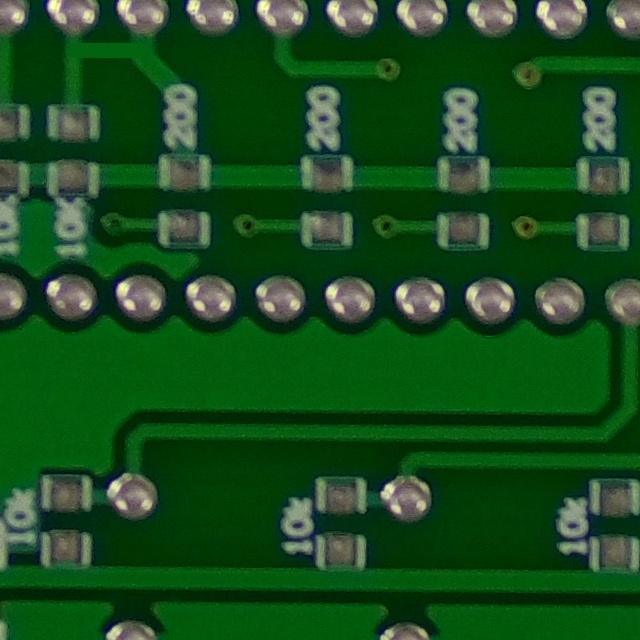short: (50, 6, 169, 81)
